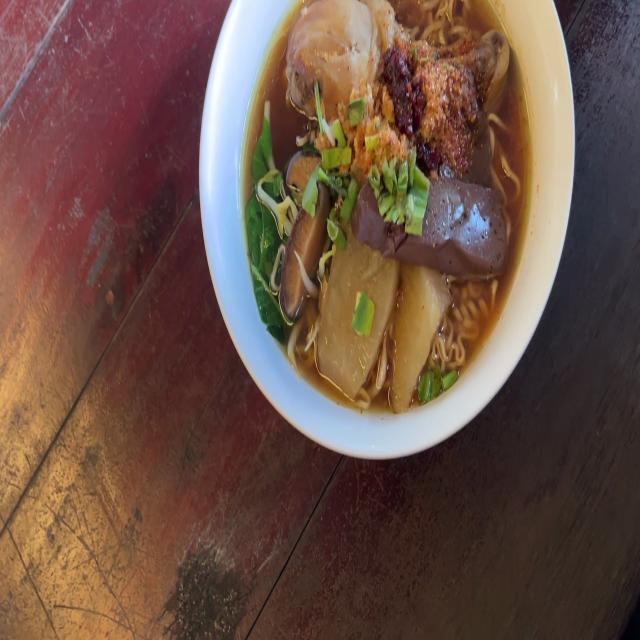noodle: (265, 0, 517, 371)
